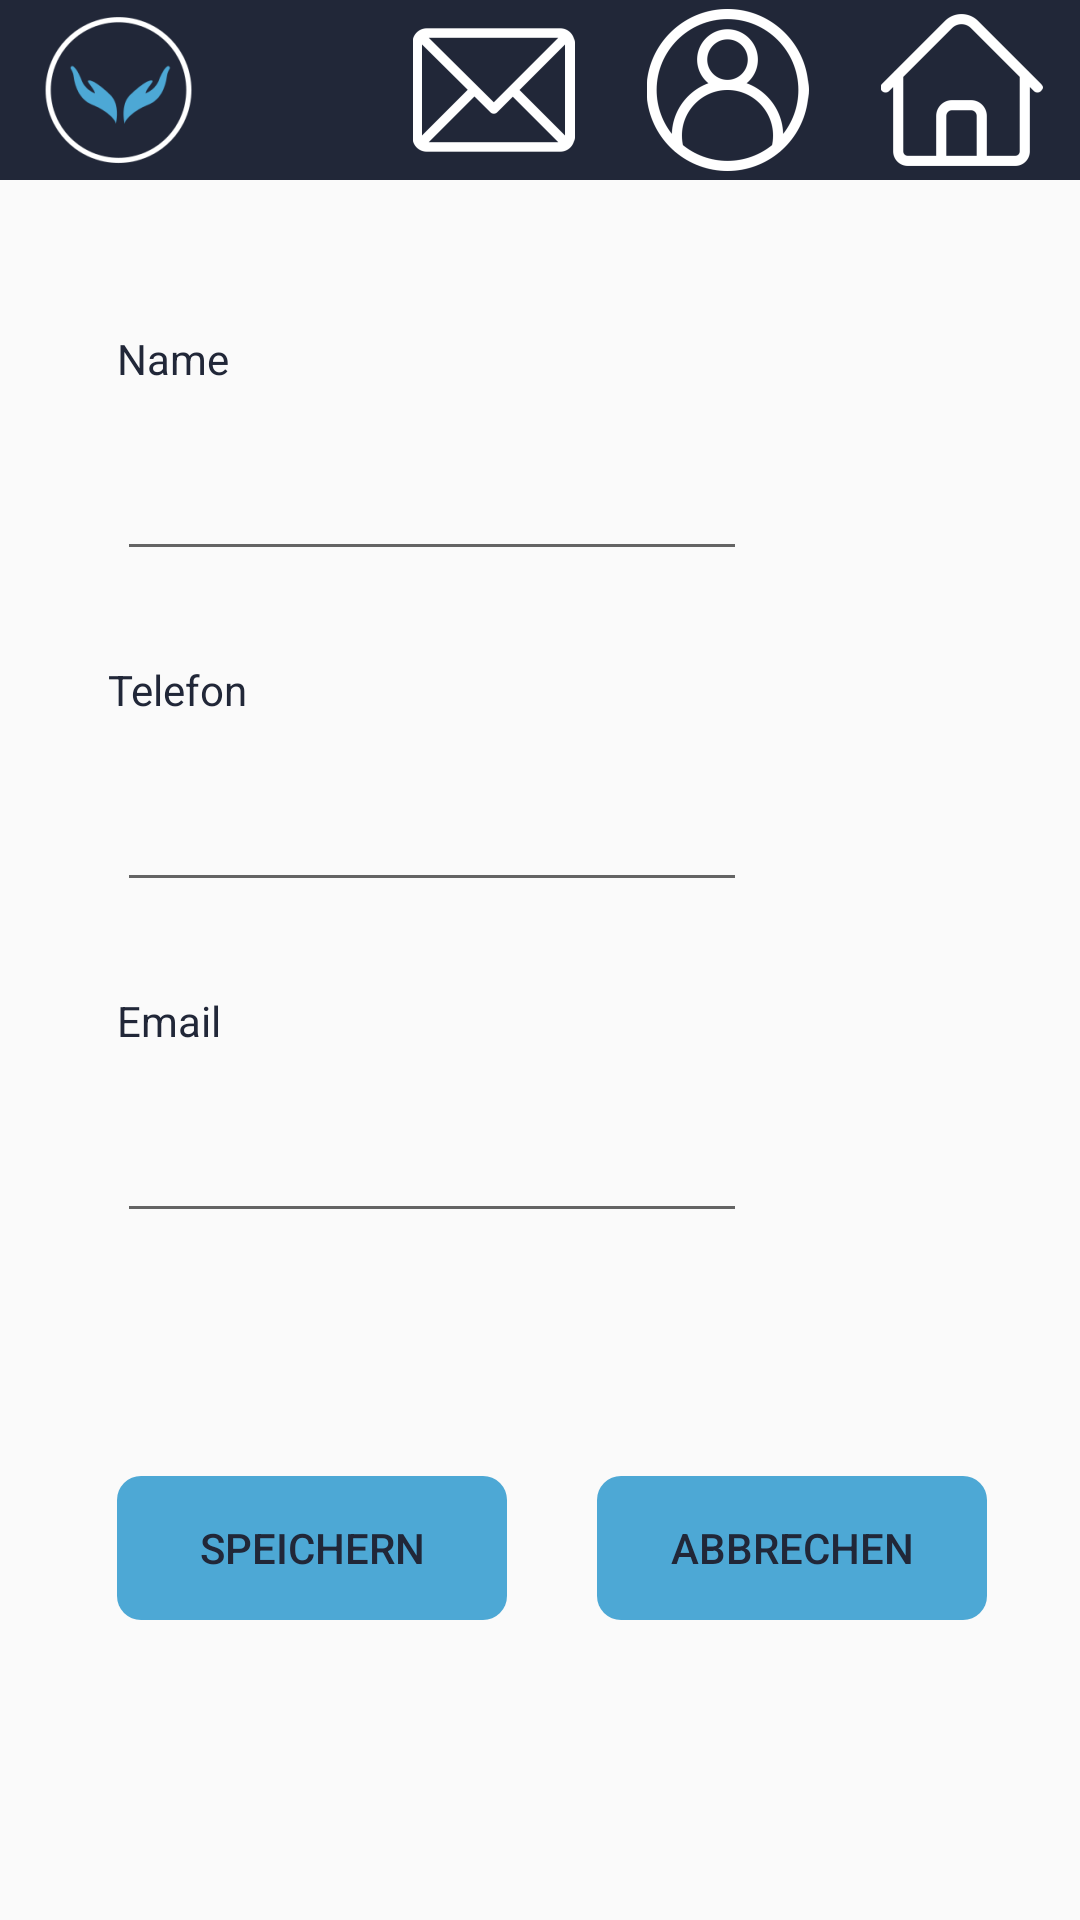

Locate icon controls on the screen. Image size 1080px×1920px, boxes as [x1,y1,x2,y2].
home: [881,14,1043,166]
message: [413,28,575,152]
profile: [647,9,809,171]
